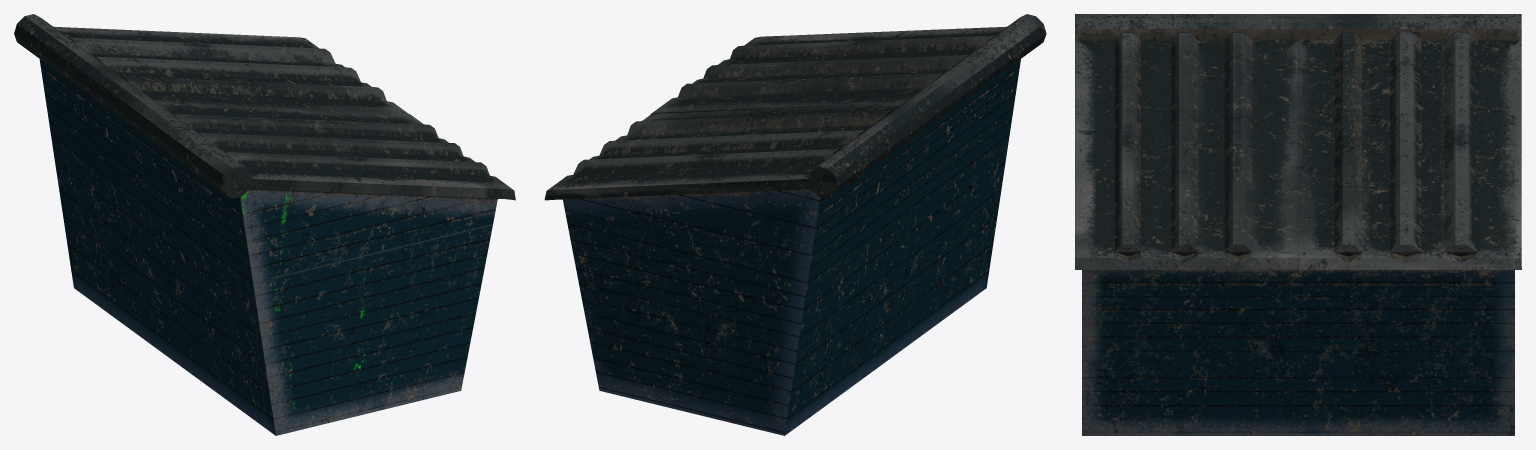
File: Dumpster1_01.fbx
The picture shows the model from 3 angles, left to right: view 1: azimuth 30°, elevation 25°; view 2: azimuth 150°, elevation 25°; view 3: azimuth 270°, elevation 25°; orthographic projection. The views are drawn at different scales.
Parts seen in each view (by area): view 1: pCube4; view 2: pCube4; view 3: pCube4.
Boxes of the visible parts, left/top/right/bottom form: pCube4: left=14, top=14, right=515, bottom=435; pCube4: left=544, top=14, right=1046, bottom=435; pCube4: left=1075, top=14, right=1521, bottom=435.
Bounding box in the file's own units: 6.58 × 6.01 × 8.09.
